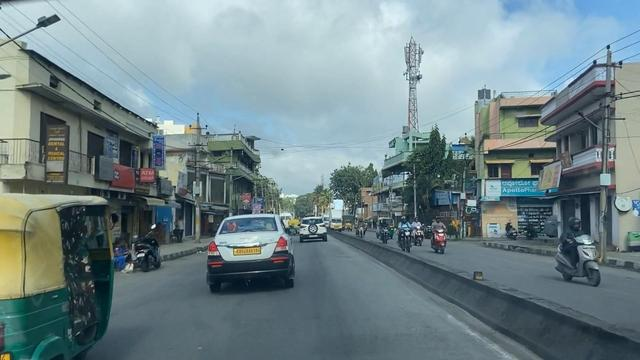LMV: (0, 195, 114, 360), (208, 214, 294, 292), (135, 225, 159, 272)
